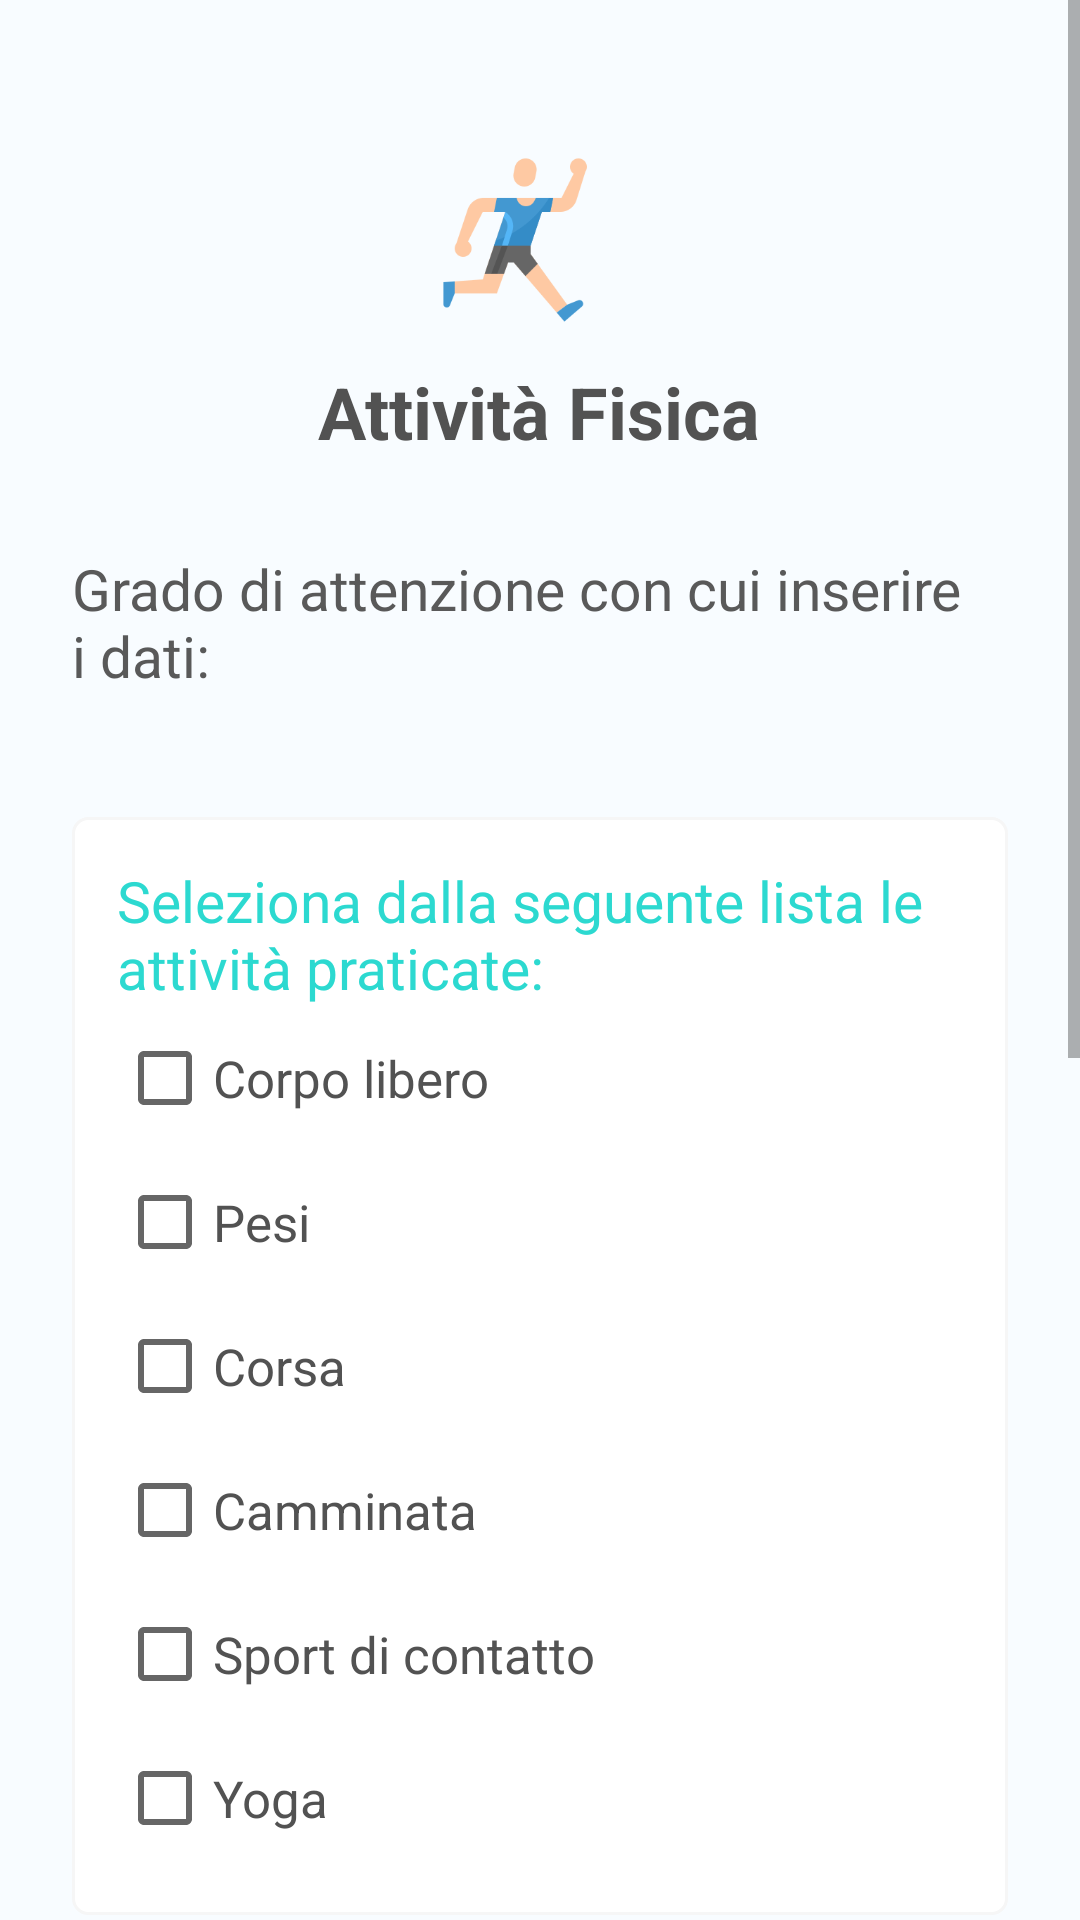

Point at icon controls on the screen. Image size 1080x1920, points as (x,y).
physicalactivity: (515,240)
